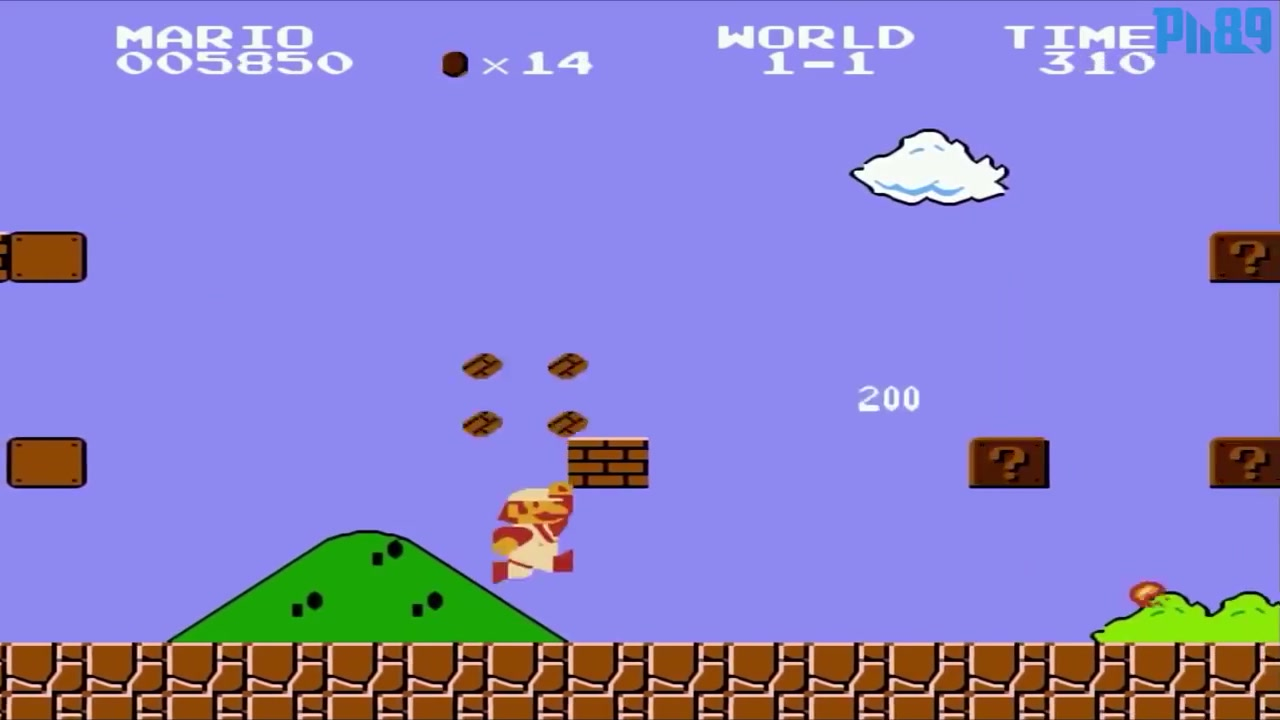mario: (489, 476, 580, 591)
